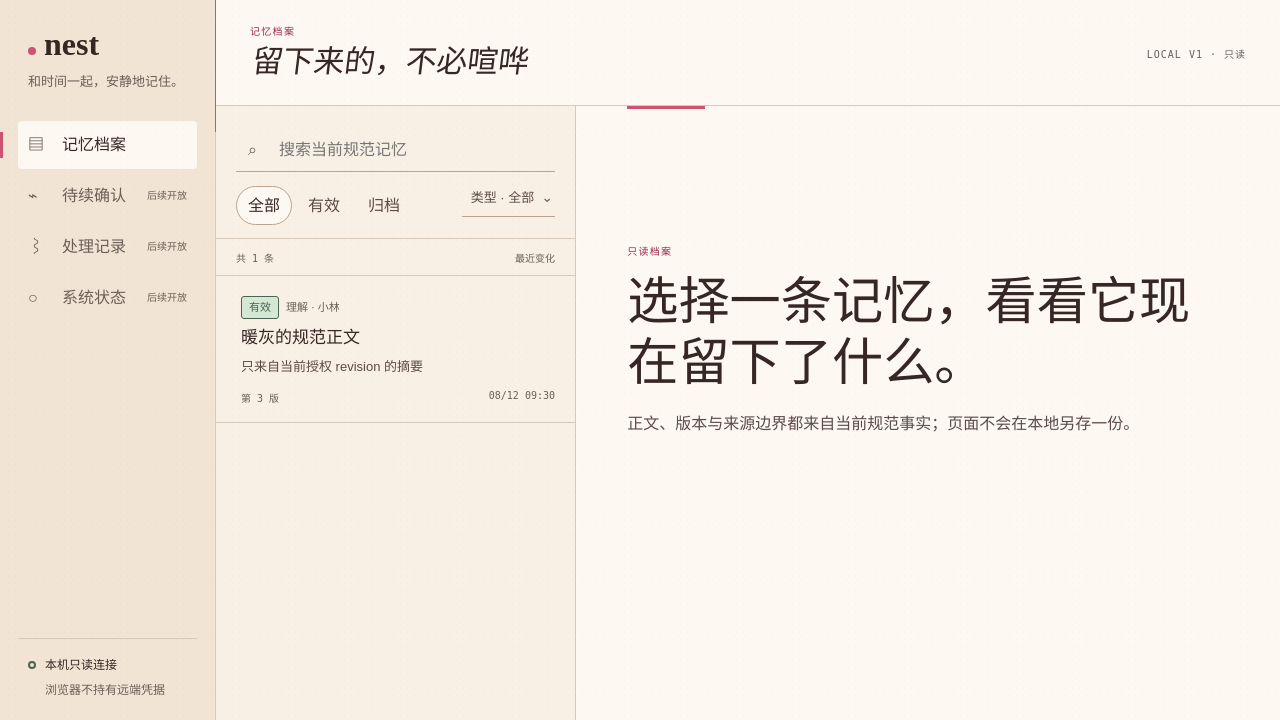
Test: 记忆档案生产纵切 › 单段证据显示对应记忆与轻量摘要，无证据编号与大表格字段
This screenshot has width=1280, height=720.
Click the button "有效 理解 · 小林 暖灰的规范正文 只来自当前授权 revision 的摘要 第 3 版 08/12 09:30" at (260, 308), box left=216, top=276, right=575, bottom=423
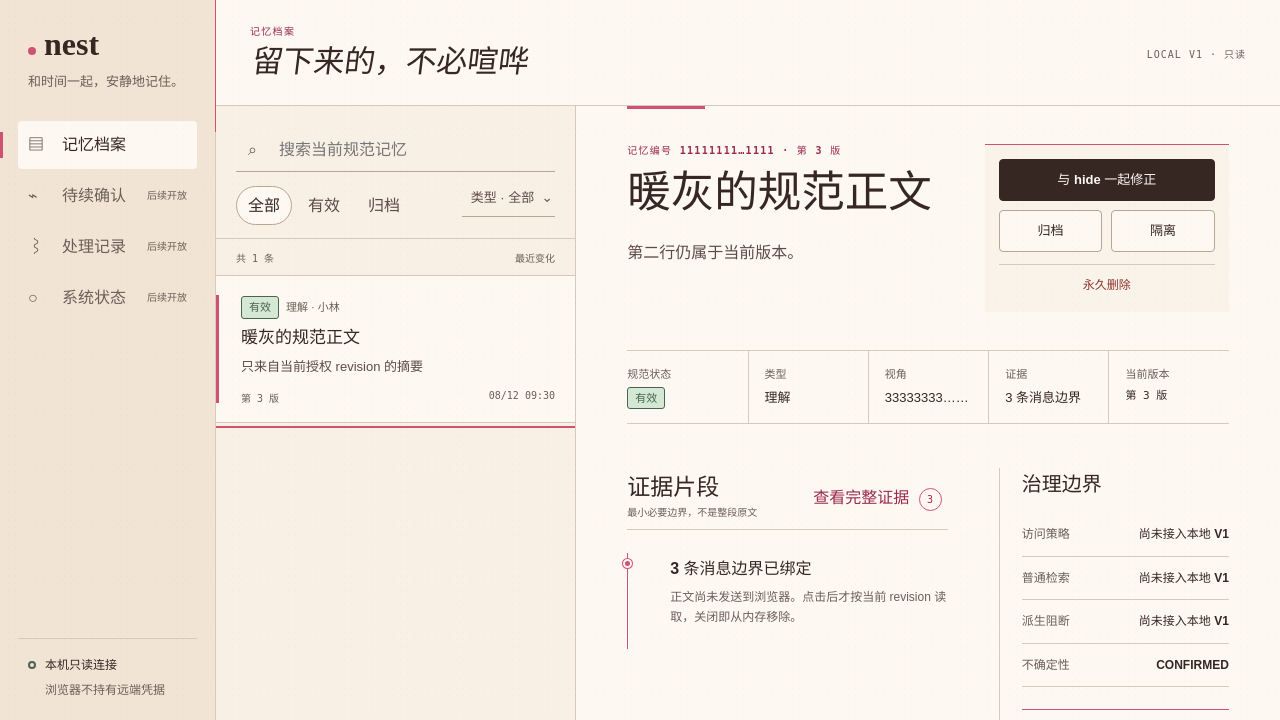
Click the button "查看完整证据 3" at (877, 497), box left=807, top=475, right=948, bottom=519
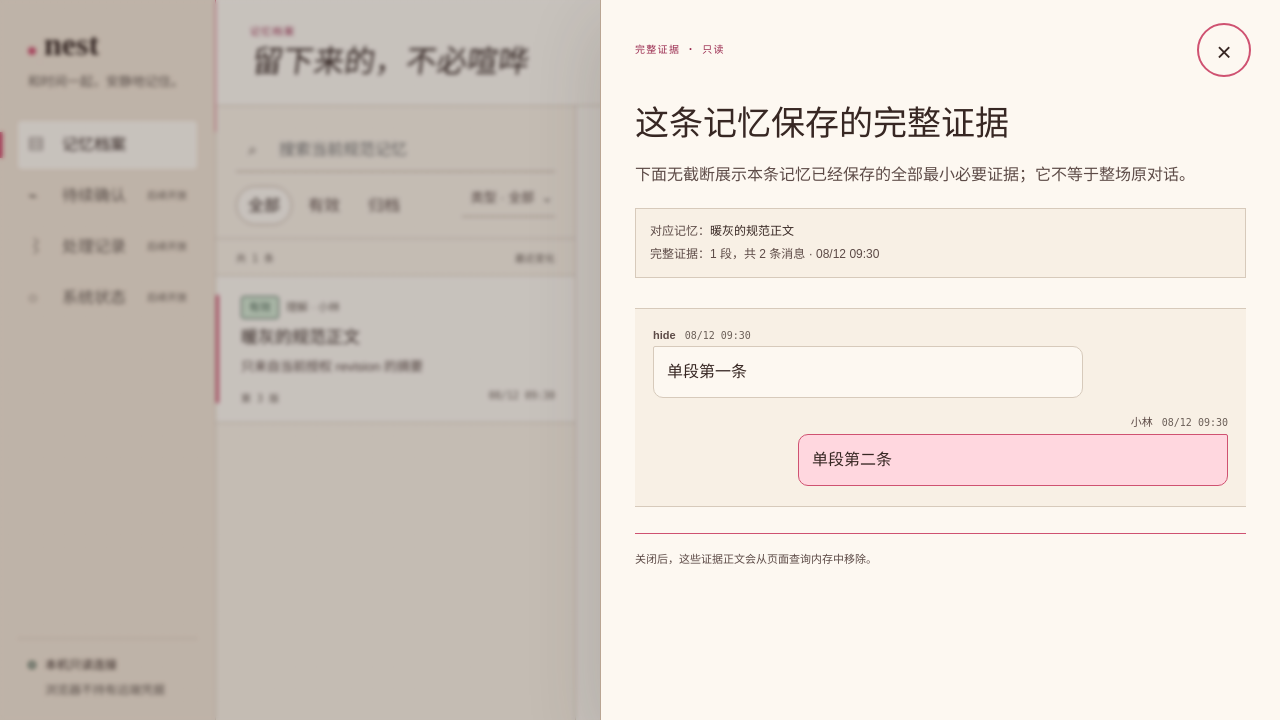
Now the text "完整证据：1 段，共 2 条消息 · 08/12 09:30" is shown, box left=650, top=247, right=879, bottom=261
Now the text "单段第一条" is shown, box left=653, top=346, right=1083, bottom=398
Now the text "单段第二条" is shown, box left=798, top=434, right=1228, bottom=486
